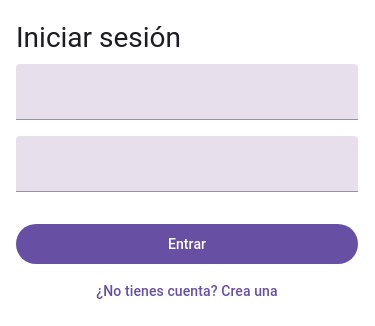
Test: LoginView › shows the format error and sends nothing when the email is malformed
Type "not-an-email" into the field named "Email".
click(187, 92); type("not-an-email")  # box [16,64,358,120]
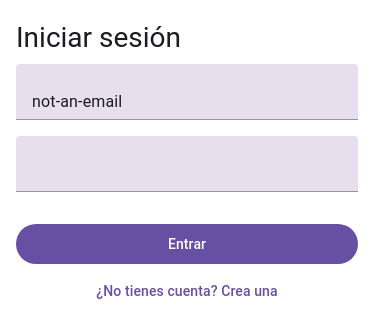
Type "secret" into the password field named "Contraseña".
click(187, 164); type("secret")  # box [16,136,358,192]
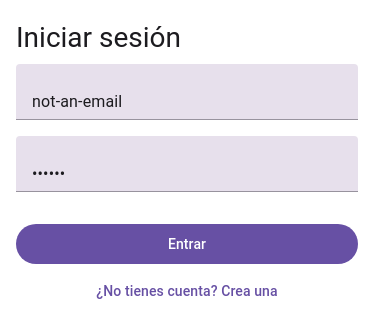
Click the button "Entrar".
click(187, 244)  # box [16,224,358,264]
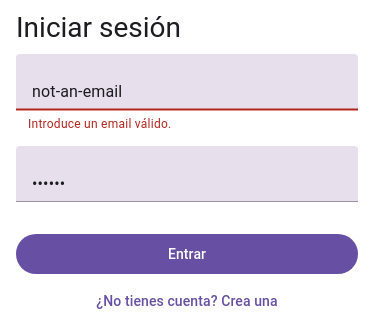
Expected: the text "Introduce un email válido." is shown, [28,117,171,131]
